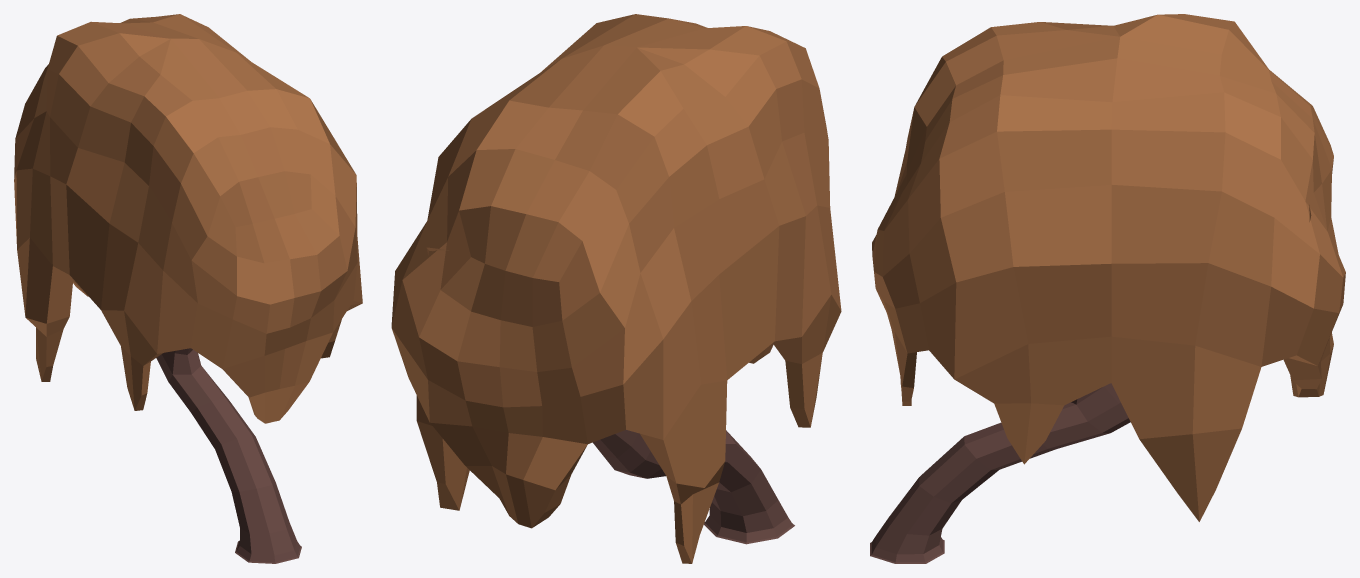
The model's file is Willow_Autumn_3.gltf.
3 renders of one model, left to right at view 1: azimuth 30°, elevation 25°; view 2: azimuth 150°, elevation 25°; view 3: azimuth 270°, elevation 25°, orthographic. The views are drawn at different scales.
Visible parts, largest first — view 1: Willow_Autumn_3; view 2: Willow_Autumn_3; view 3: Willow_Autumn_3.
Part boxes in pixels (bbox=[...]): Willow_Autumn_3: bbox=[14, 14, 362, 563]; Willow_Autumn_3: bbox=[391, 14, 841, 563]; Willow_Autumn_3: bbox=[870, 14, 1345, 563].
Bounding box in the file's own units: 1.32 × 2.35 × 1.98.
